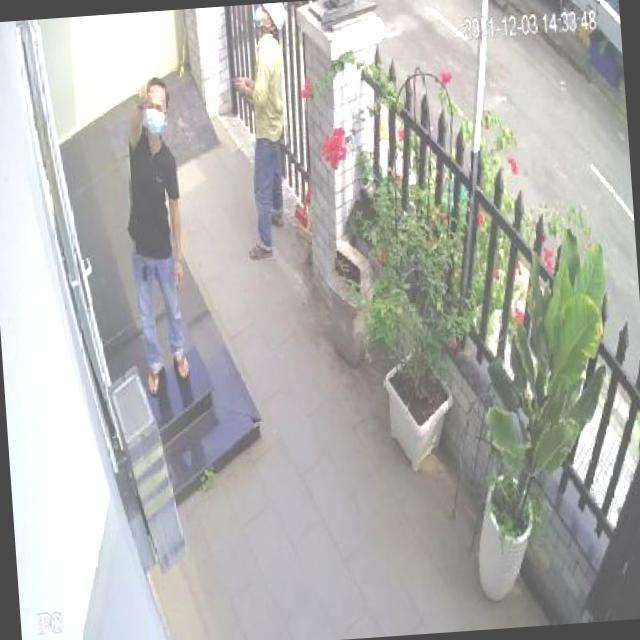Person: (119, 73, 194, 400), (226, 2, 302, 262)
